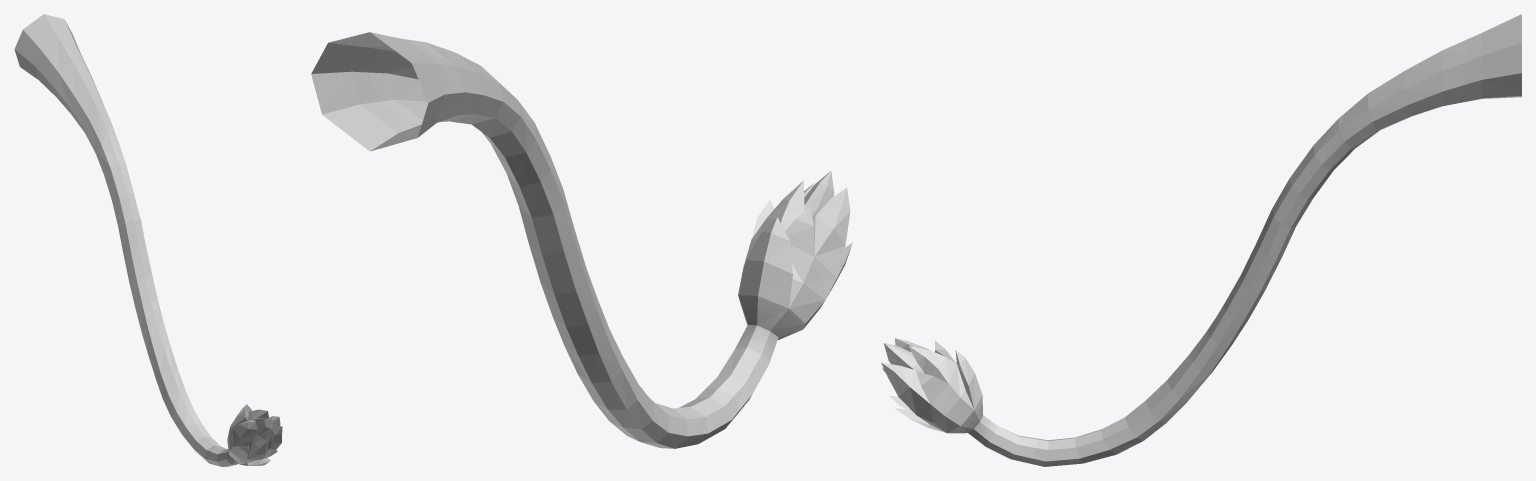
Rendered from CharSkyKid_Tail_AP24Classic.glb.
The picture shows the model from 3 angles, left to right: view 1: azimuth 30°, elevation 25°; view 2: azimuth 150°, elevation 25°; view 3: azimuth 270°, elevation 25°; orthographic projection. The views are drawn at different scales.
Parts seen in each view (by area): view 1: CharSkyKid_Tail_AP24Classic; view 2: CharSkyKid_Tail_AP24Classic; view 3: CharSkyKid_Tail_AP24Classic.
Part boxes in pixels (x1,y1,x2,y2): CharSkyKid_Tail_AP24Classic: [14, 14, 282, 466]; CharSkyKid_Tail_AP24Classic: [311, 32, 852, 448]; CharSkyKid_Tail_AP24Classic: [881, 14, 1521, 466].
Bounding box in the file's own units: 0.9104 × 4.79 × 6.18.
Materials: 1 (1 with a texture image).
